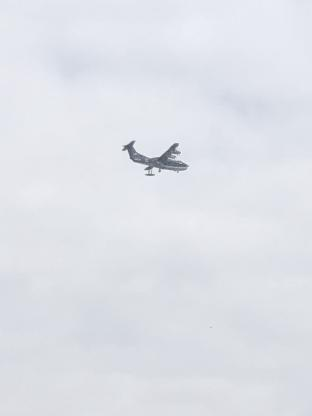Tu95: (122, 140, 190, 176)
